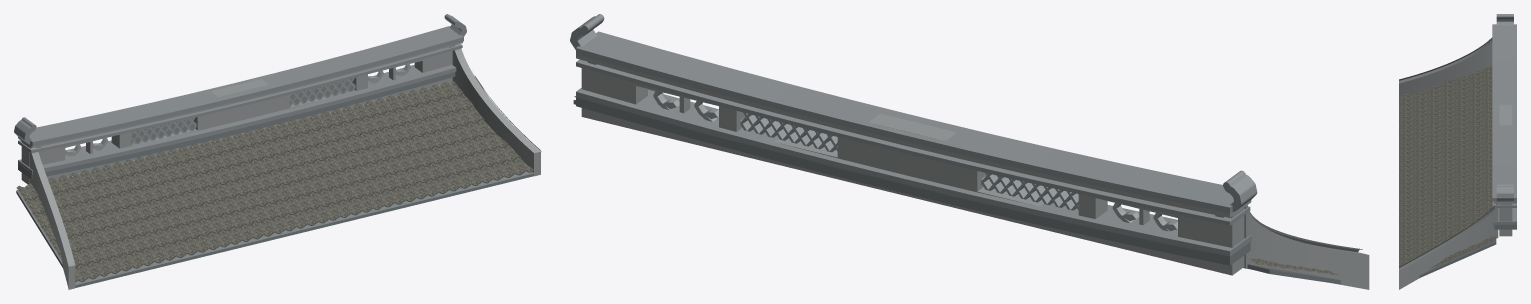
File: xishi-street-guandi-hall-pierced-ridge-far.glb
3 renders of one model, left to right at view 1: azimuth 30°, elevation 25°; view 2: azimuth 150°, elevation 25°; view 3: azimuth 270°, elevation 25°, orthographic. The views are drawn at different scales.
Visible parts, largest first — view 1: 西市街关帝庙正厅的镂空菱格正脊与卷端; view 2: 西市街关帝庙正厅的镂空菱格正脊与卷端; view 3: 西市街关帝庙正厅的镂空菱格正脊与卷端.
Boxes of the visible parts, left/top/right/bottom form: 西市街关帝庙正厅的镂空菱格正脊与卷端: left=14, top=14, right=541, bottom=289; 西市街关帝庙正厅的镂空菱格正脊与卷端: left=570, top=14, right=1369, bottom=289; 西市街关帝庙正厅的镂空菱格正脊与卷端: left=1399, top=14, right=1516, bottom=289.
Bounding box in the file's own units: 4.52 × 1.05 × 1.18.
Materials: 6 (1 with a texture image).
